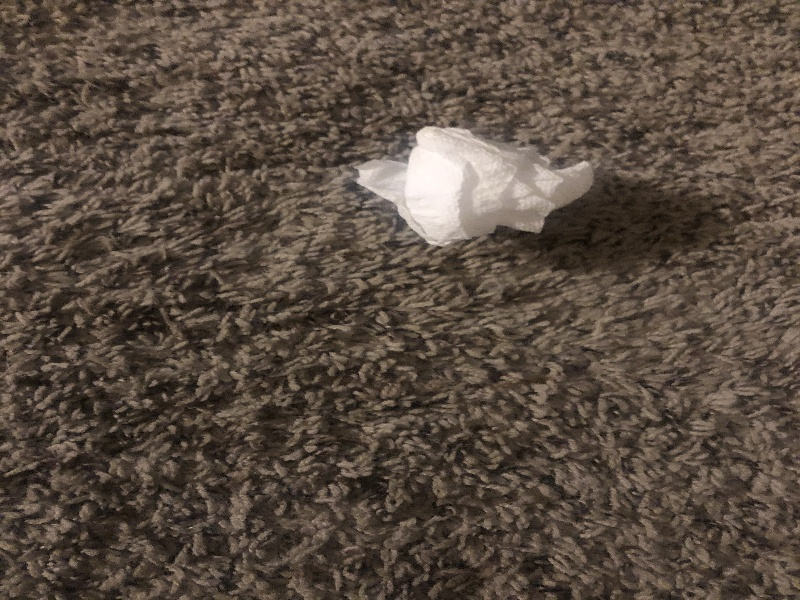paper: (347, 119, 599, 248)
